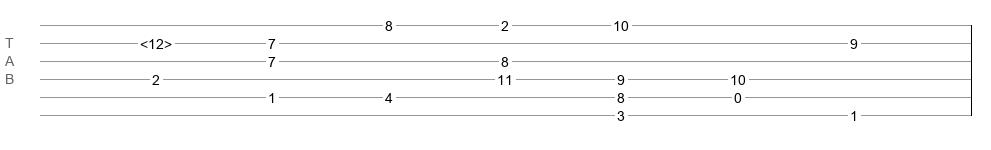0: (734, 90, 742, 100)
1: (268, 90, 276, 100), (850, 108, 858, 118)
10: (613, 18, 629, 28), (730, 72, 746, 82)
11: (497, 72, 513, 82)
2: (152, 72, 160, 82), (501, 18, 509, 28)
3: (617, 108, 625, 118)
4: (385, 90, 393, 100)
7: (268, 36, 276, 46), (268, 54, 276, 64)
8: (385, 18, 393, 28), (501, 54, 509, 64), (617, 90, 625, 100)
9: (617, 72, 625, 82), (850, 36, 858, 46)
harmonic: (140, 36, 172, 46)
